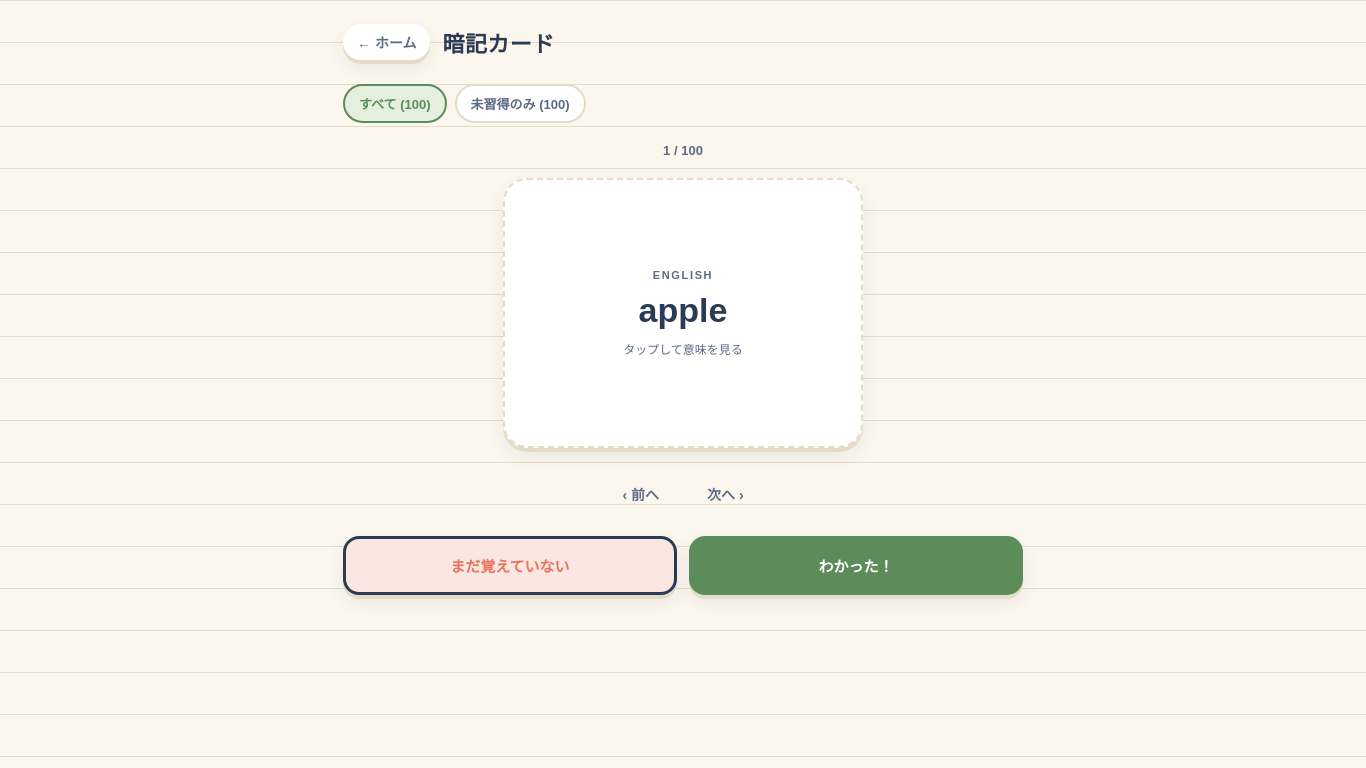
FlashCard › すべてモードで評価を変更すると未習得件数へ即時反映する
Expected: the button "未習得のみ (100)" is shown, [455, 84, 586, 123]
Expected: the text "apple" is shown, [639, 291, 727, 330]
Click the button "わかった！": point(856, 566) [689, 536, 1023, 595]
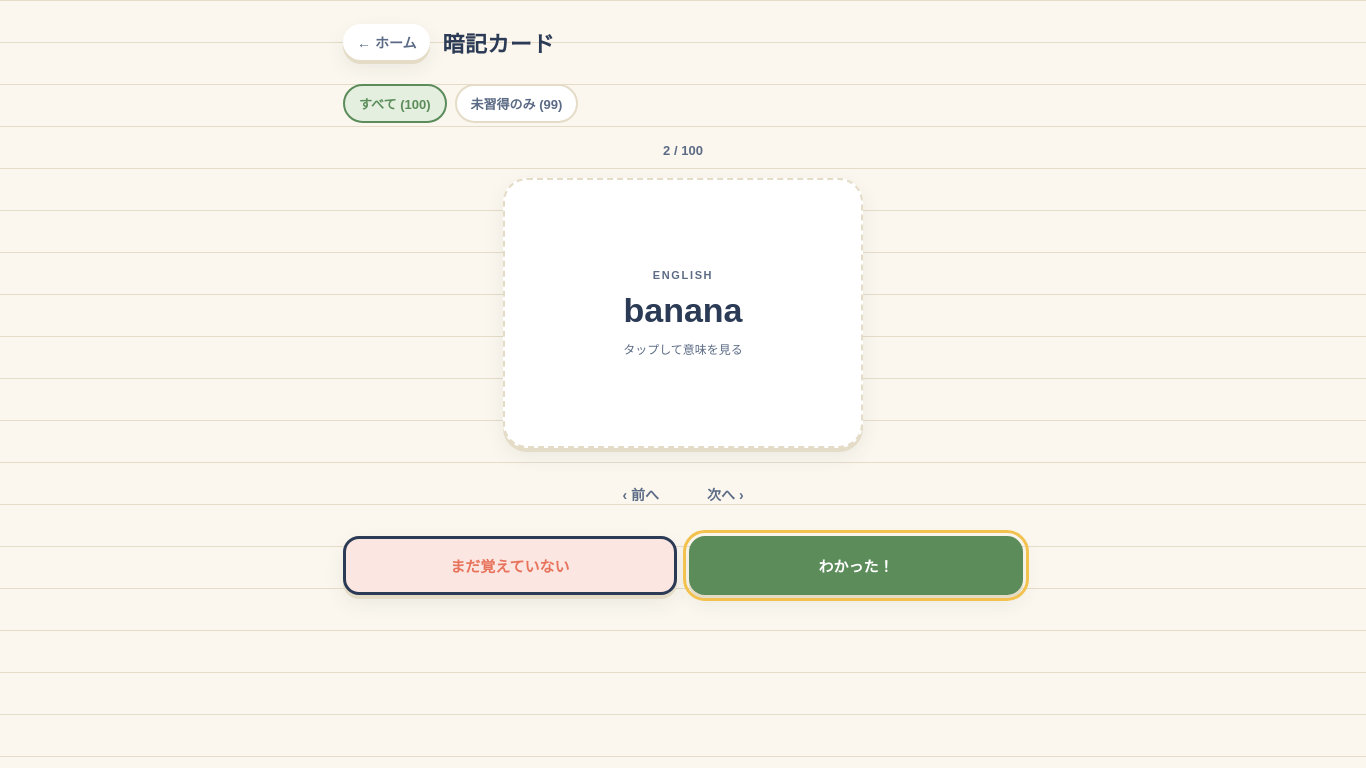
Expected: the button "未習得のみ (99)" is shown, [455, 84, 578, 123]
Expected: the text "banana" is shown, [624, 291, 742, 330]
Click the button with aria-label "前のカード": point(641, 494) [606, 472, 675, 516]
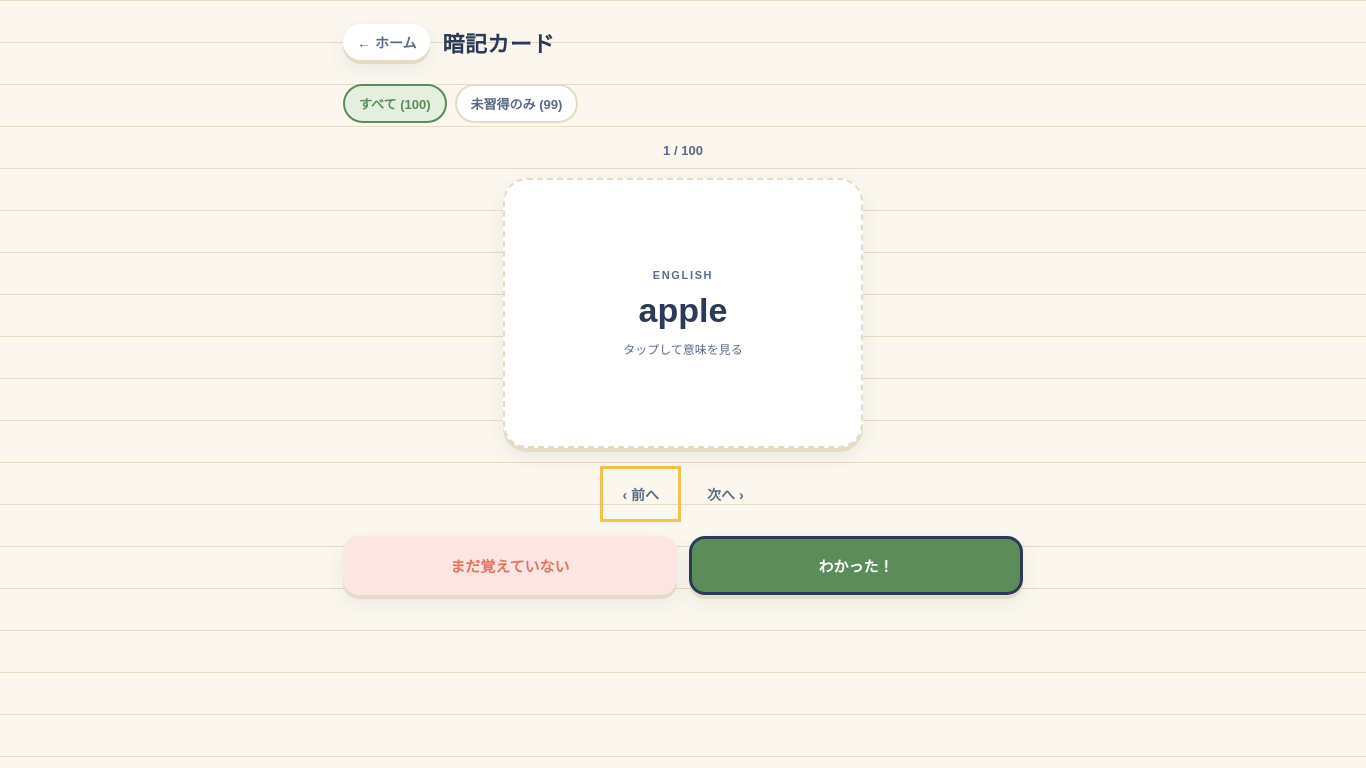
Expected: the text "apple" is shown, [639, 291, 727, 330]
Click the button "まだ覚えていない": point(510, 566) [343, 536, 677, 595]
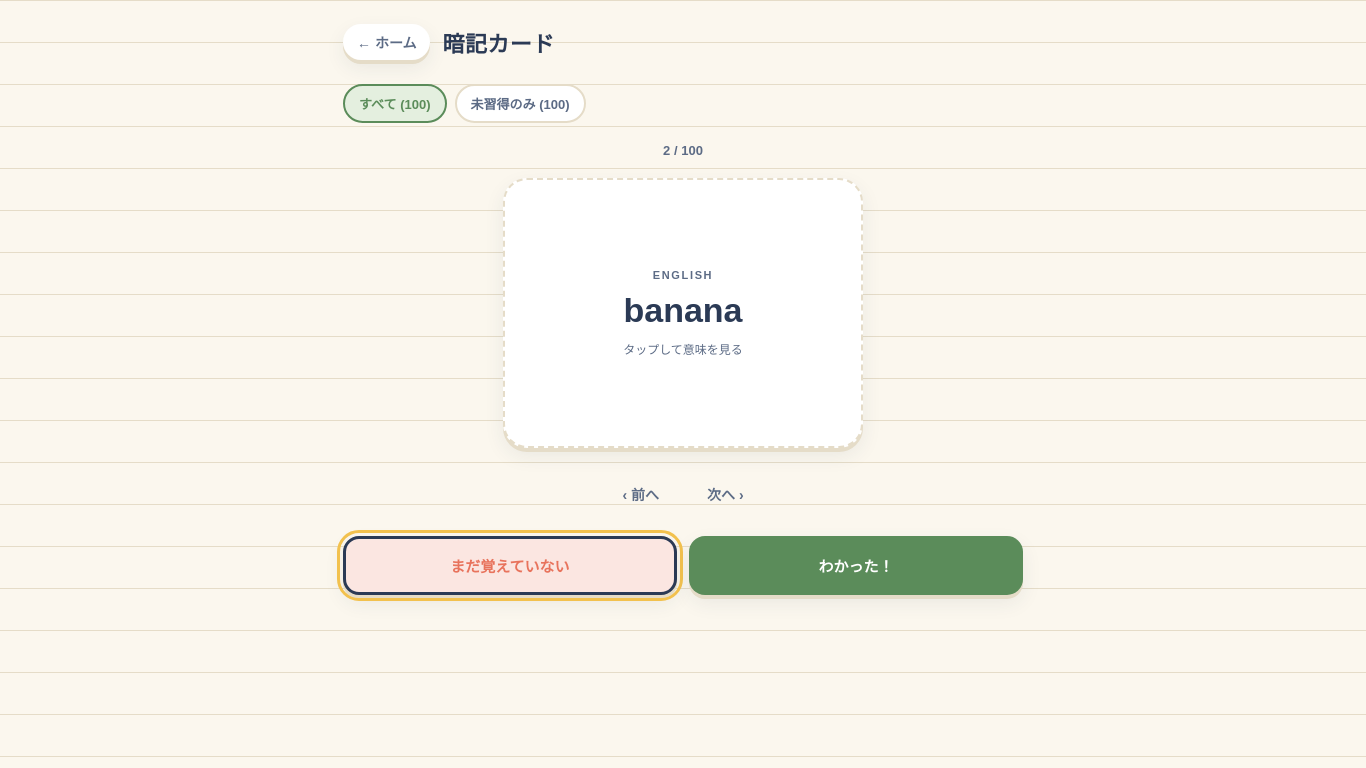
Expected: the button "未習得のみ (100)" is shown, [455, 84, 586, 123]
